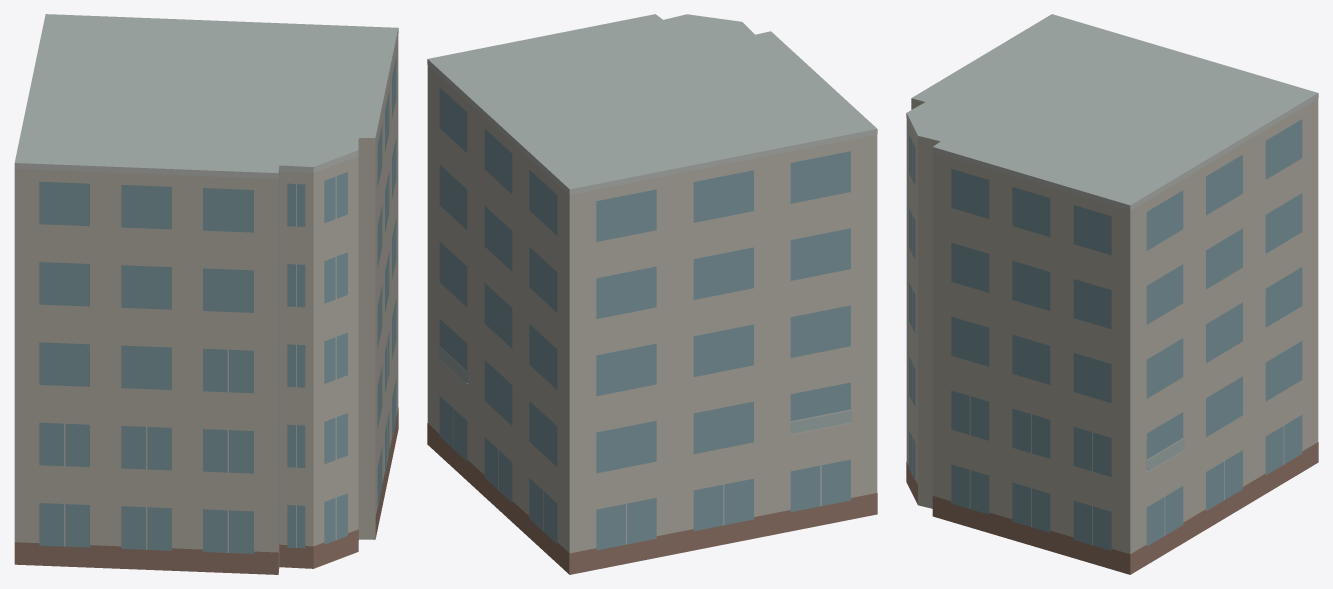
Rendered from survey-upis-32856571.glb.
The picture shows the model from 3 angles, left to right: view 1: azimuth 30°, elevation 25°; view 2: azimuth 150°, elevation 25°; view 3: azimuth 270°, elevation 25°; orthographic projection. The views are drawn at different scales.
Parts seen in each view (by area): view 1: survey-upis-32856571.tmp; view 2: survey-upis-32856571.tmp; view 3: survey-upis-32856571.tmp.
Part boxes in pixels (box(x1,y1,x2,y2)): survey-upis-32856571.tmp: box(14, 14, 398, 574); survey-upis-32856571.tmp: box(427, 14, 877, 574); survey-upis-32856571.tmp: box(906, 14, 1318, 574).
Size of the model in its own units: 18.67 by 16.8 by 16.98.
